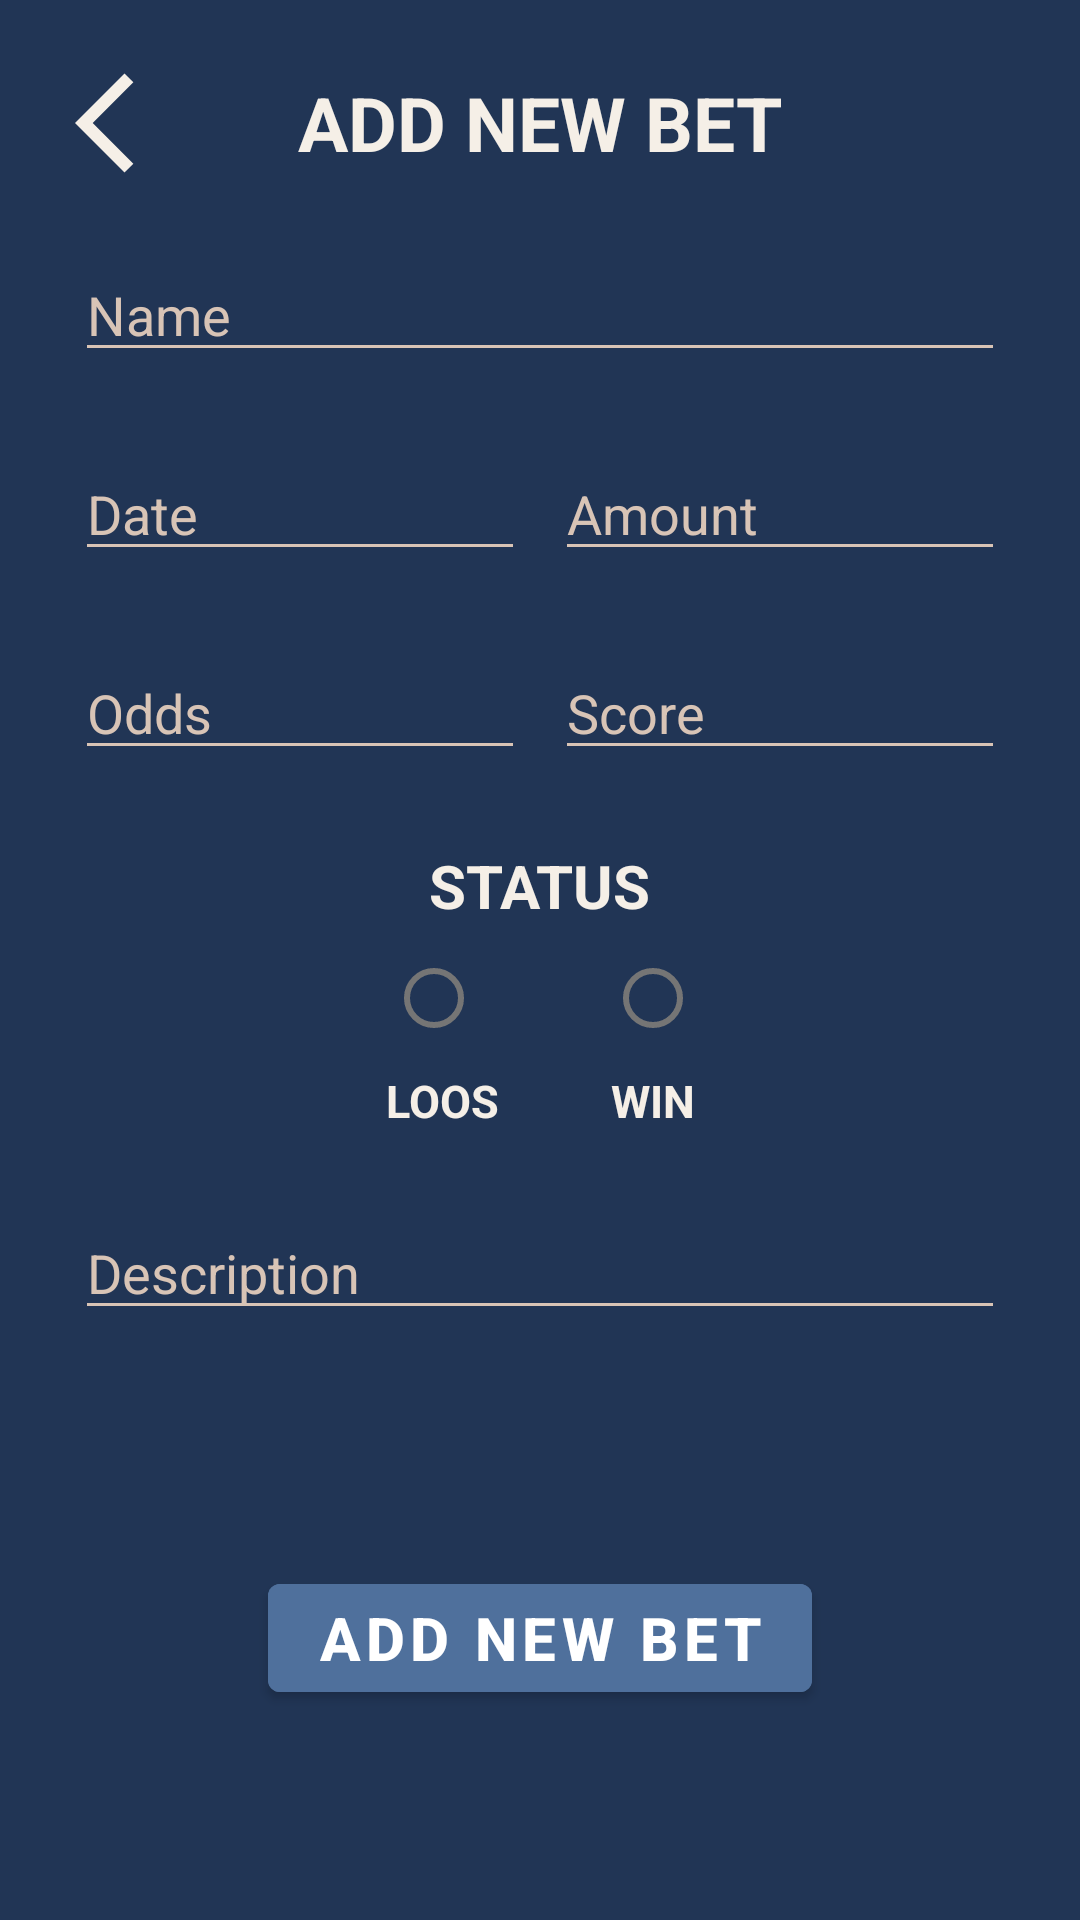

Point at icon controls on the screen. Image size 1080px x 1920px, points as point (x, y).
arrow back: point (104, 123)
